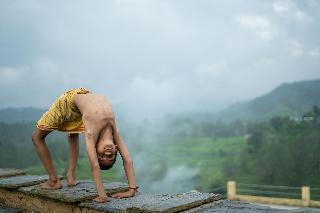person - v3 P: (32, 88, 136, 202)
